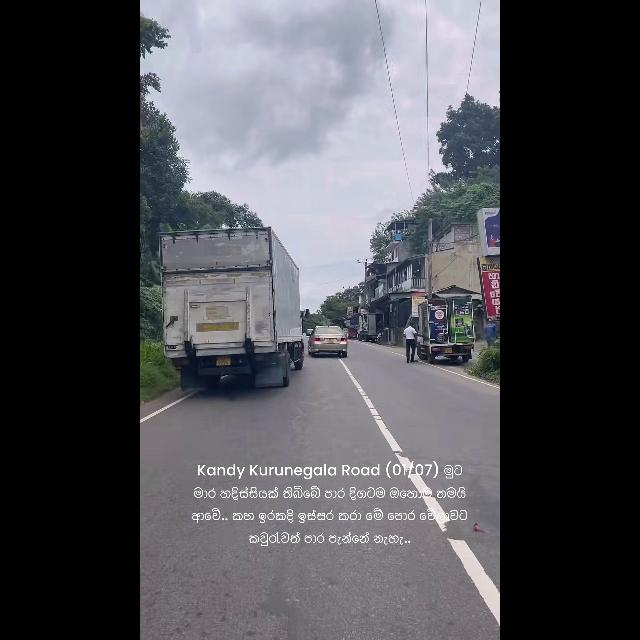car: (312, 324, 346, 352)
number_plate: (216, 357, 230, 369)
solid_line: (338, 372, 477, 574)
truck: (162, 232, 290, 396)
